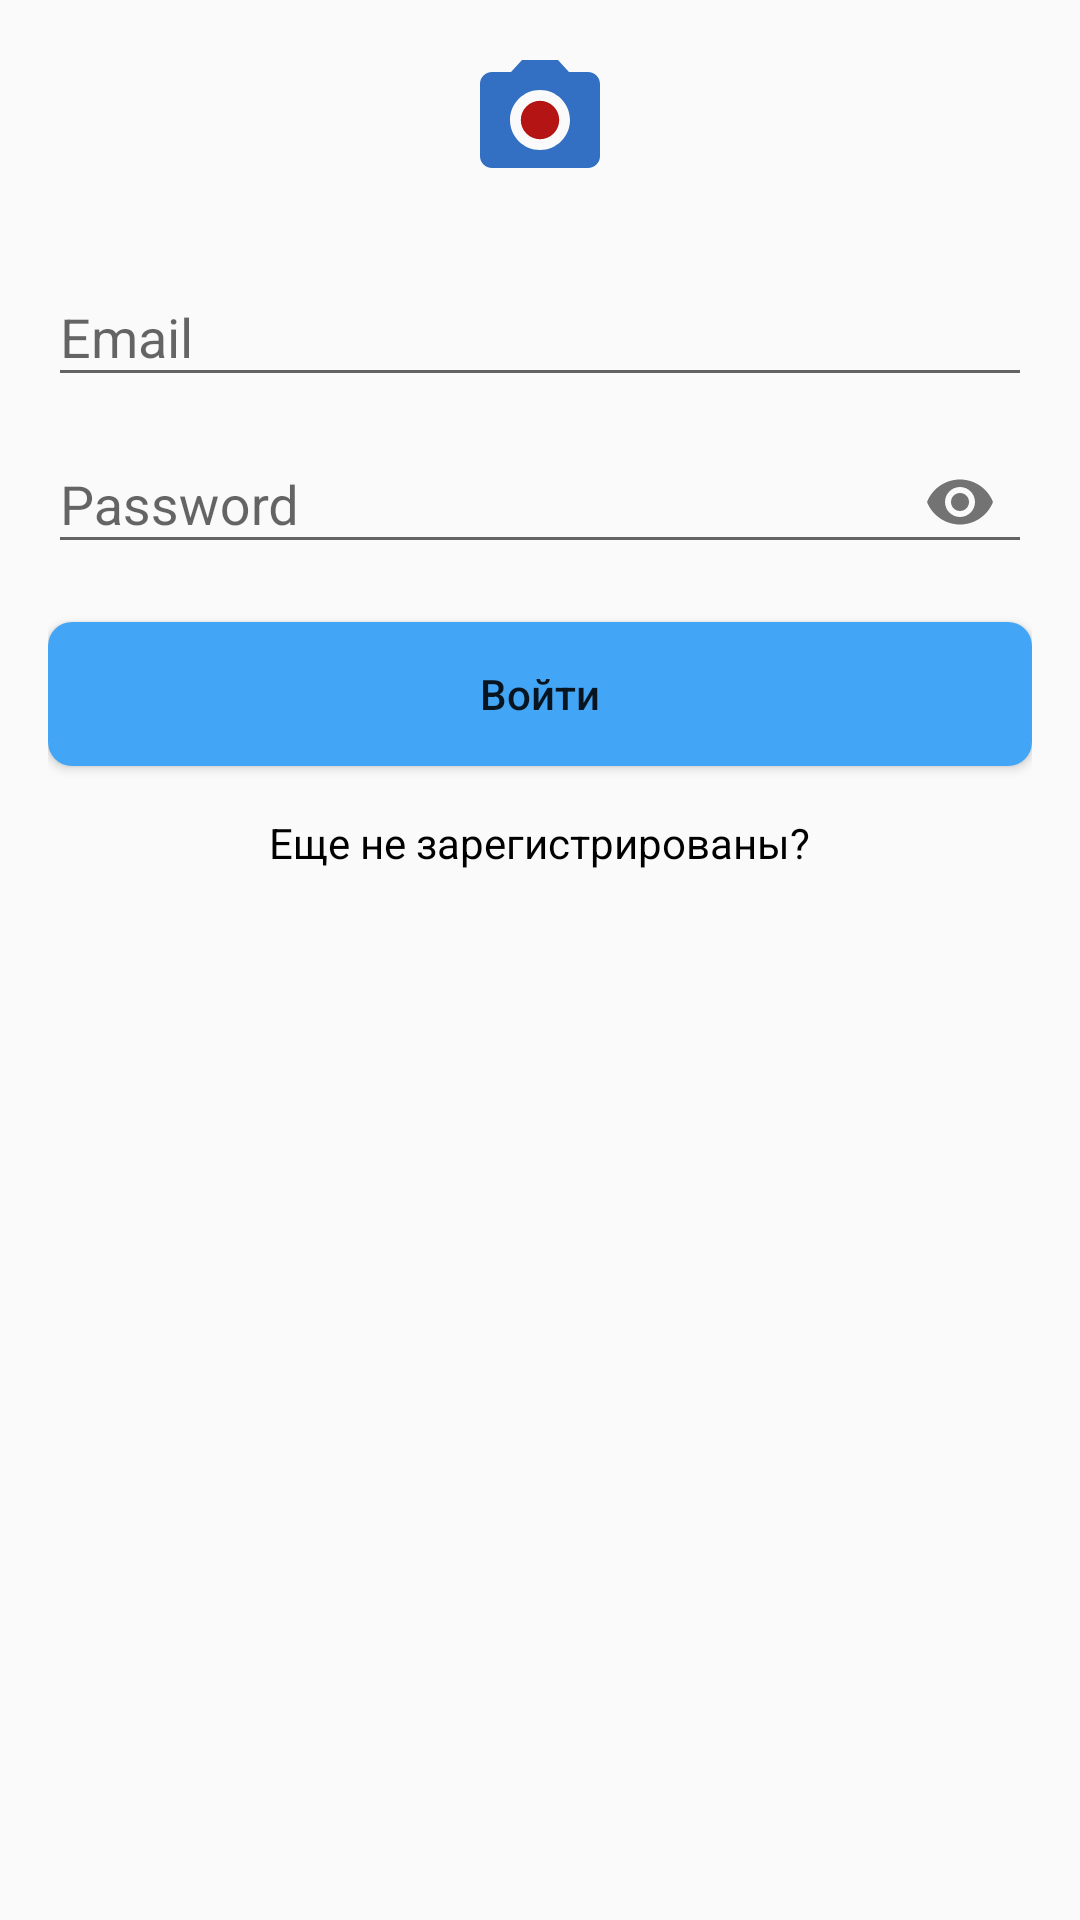

Icon bounding boxes for this 1080px x 1920px phone screenshot, format (x1=x1, y1=y1, x2=x2, y2=y2):
camera: (x1=480, y1=60, x2=600, y2=168)
